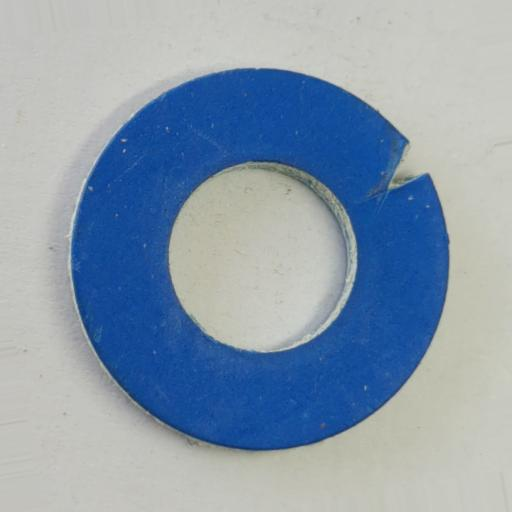defect: (384, 140, 430, 194)
